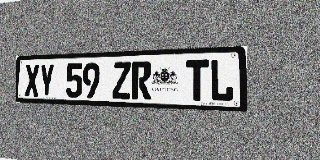5: (66, 63, 82, 98)
9: (83, 62, 100, 98)
L: (210, 59, 234, 102)
R: (131, 61, 151, 100)
T: (186, 59, 209, 101)
X: (25, 64, 39, 97)
Y: (39, 64, 54, 97)
Z: (112, 62, 131, 99)
